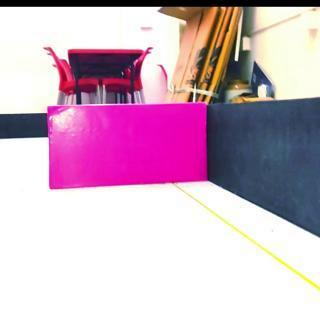xparking: (48, 108, 208, 190)
